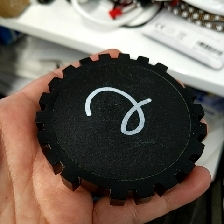gear: (34, 51, 209, 208)
missing: (62, 162, 127, 207), (153, 60, 198, 105)
